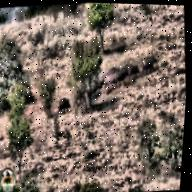boar: (139, 52, 164, 82), (57, 95, 76, 117), (125, 62, 142, 80), (103, 69, 120, 84)
